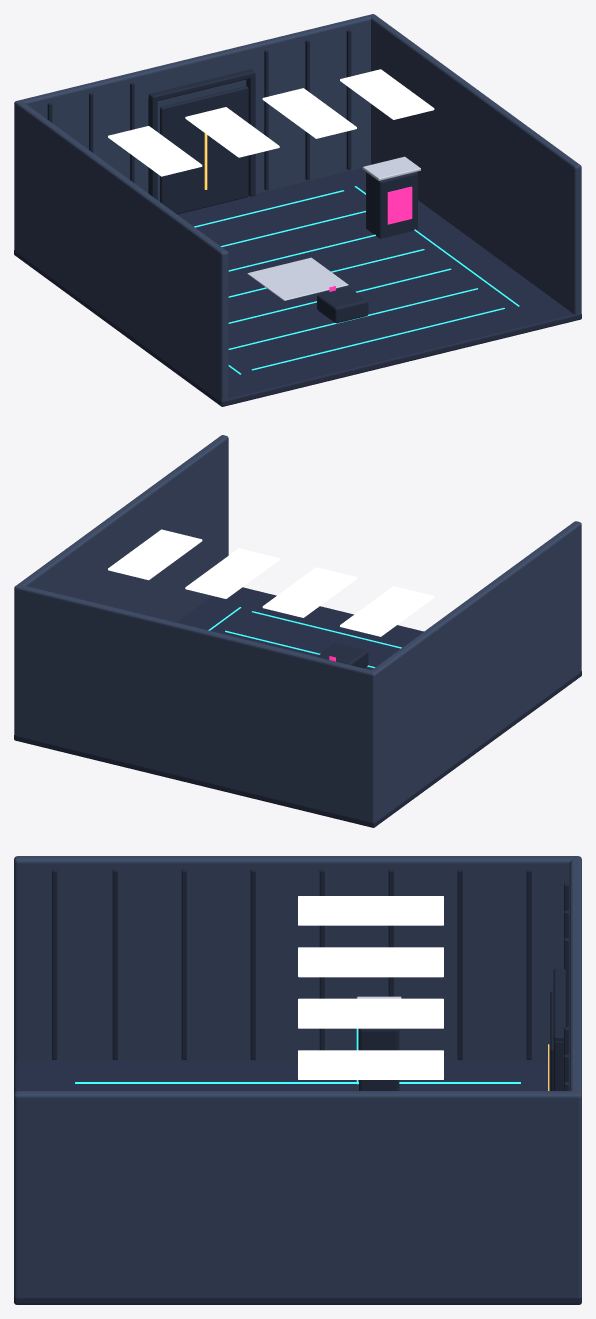
File: Higgsfield_Audit_R3_Runtime.glb
3 renders of one model, top to bottom at view 1: azimuth 30°, elevation 25°; view 2: azimuth 150°, elevation 25°; view 3: azimuth 270°, elevation 25°, orthographic. The views are drawn at different scales.
Parts seen in each view (by area): view 1: Higgsfield_G0Room_Static, G0_Door, G0_DoorFrameTop, G0_DoorFrameR, G0_DoorFrameL; view 2: Higgsfield_G0Room_Static; view 3: Higgsfield_G0Room_Static, G0_DoorFrameTop.
Boxes of the visible parts, x1,y1,x2,y2 form: Higgsfield_G0Room_Static: [14, 14, 581, 406]; G0_Door: [160, 86, 248, 214]; G0_DoorFrameTop: [148, 69, 255, 100]; G0_DoorFrameR: [246, 75, 255, 196]; G0_DoorFrameL: [148, 98, 157, 199]; Higgsfield_G0Room_Static: [14, 435, 581, 827]; Higgsfield_G0Room_Static: [14, 856, 581, 1304]; G0_DoorFrameTop: [553, 968, 565, 1041].
Size of the model in its own units: 14 by 5.73 by 14.
